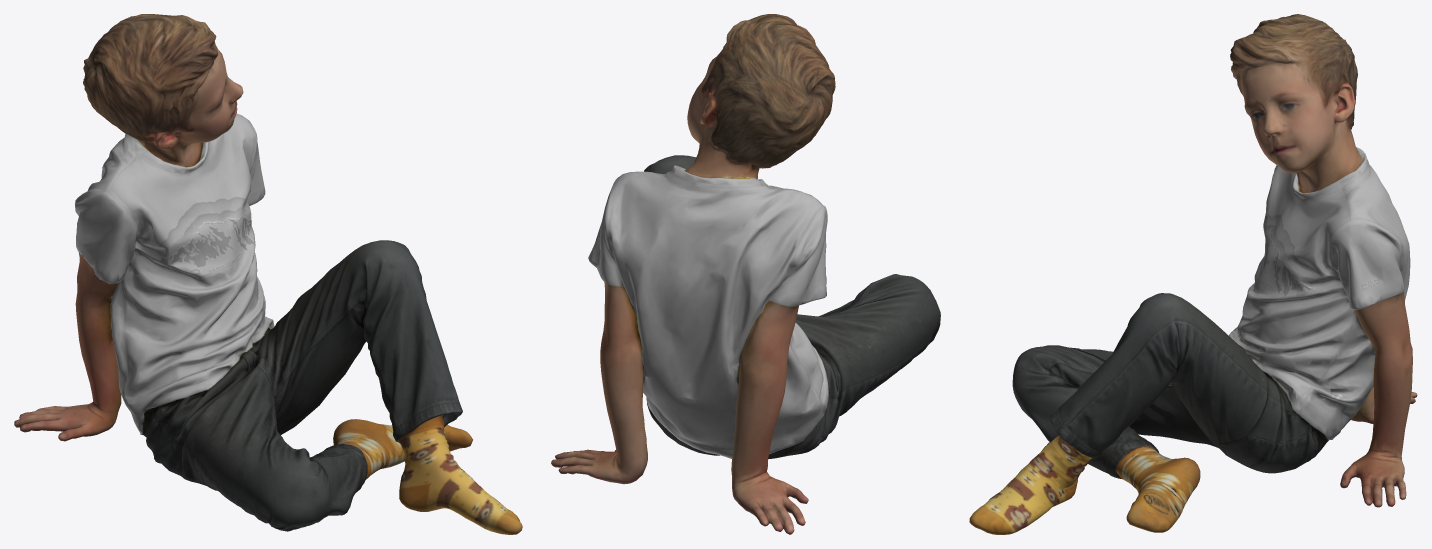
Rendered from boy.glb.
3 views of the same model, side by side, from view 1: azimuth 30°, elevation 25°; view 2: azimuth 150°, elevation 25°; view 3: azimuth 270°, elevation 25° (orthographic). The views are drawn at different scales.
Visible parts, largest first — view 1: Geom3D; view 2: Geom3D; view 3: Geom3D.
Part boxes in pixels (x1,y1,x2,y2): Geom3D: [14, 14, 522, 534]; Geom3D: [551, 14, 940, 534]; Geom3D: [969, 14, 1417, 534].
Size of the model in its own units: 0.5221 by 0.7048 by 0.6787.
Materials: 1 (1 with a texture image).
